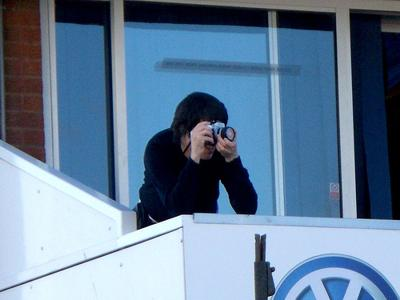person: (132, 92, 260, 231)
